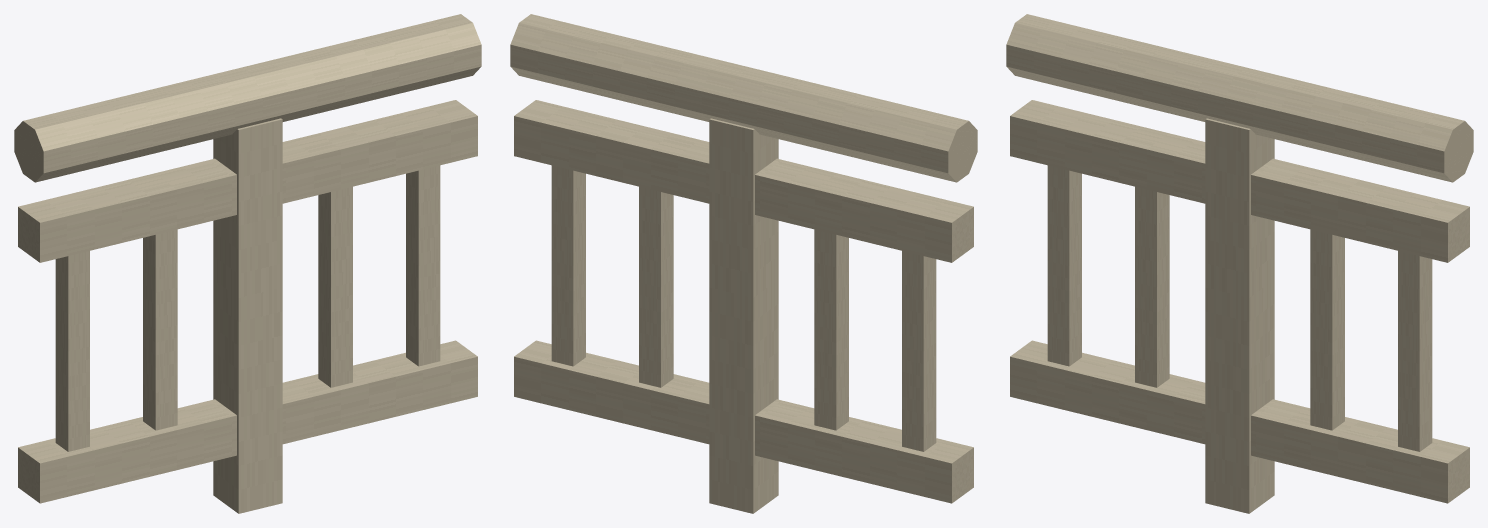
Rendered from level.obj.
3 views of the same model, side by side, from view 1: azimuth 30°, elevation 25°; view 2: azimuth 150°, elevation 25°; view 3: azimuth 330°, elevation 25° (orthographic).
Visible parts, largest first — view 1: railing_picket_round_beige_level; view 2: railing_picket_round_beige_level; view 3: railing_picket_round_beige_level.
Part boxes in pixels (x1=…): railing_picket_round_beige_level: x1=14, y1=14, x2=481, y2=513; railing_picket_round_beige_level: x1=510, y1=14, x2=977, y2=513; railing_picket_round_beige_level: x1=1006, y1=14, x2=1473, y2=513.
Size of the model in its own units: 1 by 0.9327 by 0.1155.
